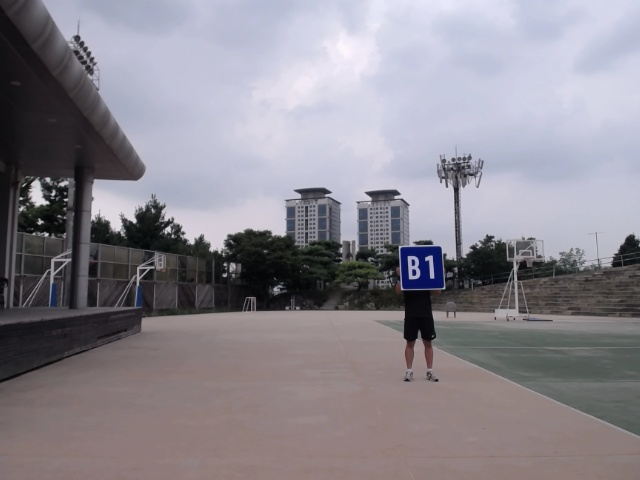delivery_b1: (399, 246, 445, 290)
